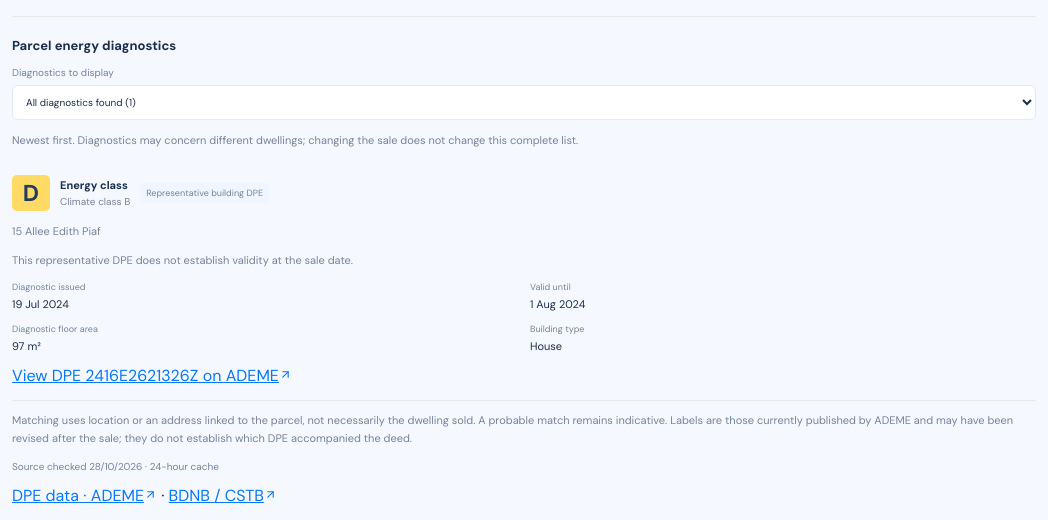
Scenario: does not show an unknown or expired certificate as valid at the sale date
Expected: the text named "Energy class D" is shown, left=12, top=175, right=50, bottom=211
Select "At the sale date of 1 Jan 2025" in the dropdown labelled "Diagnostics to display": (524, 102) left=12, top=85, right=1036, bottom=120
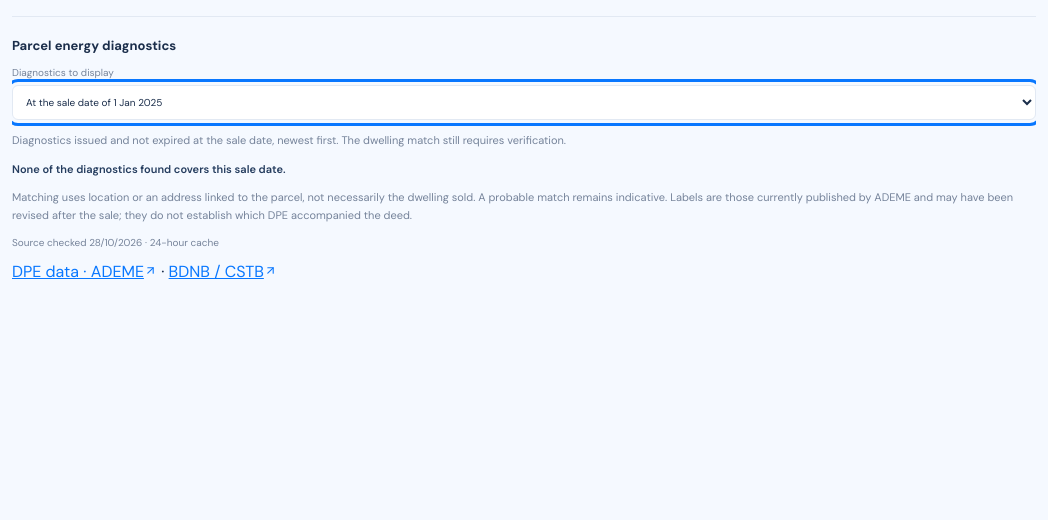
Now the text "None of the diagnostics found covers this sale date." is shown, box left=12, top=162, right=286, bottom=176
